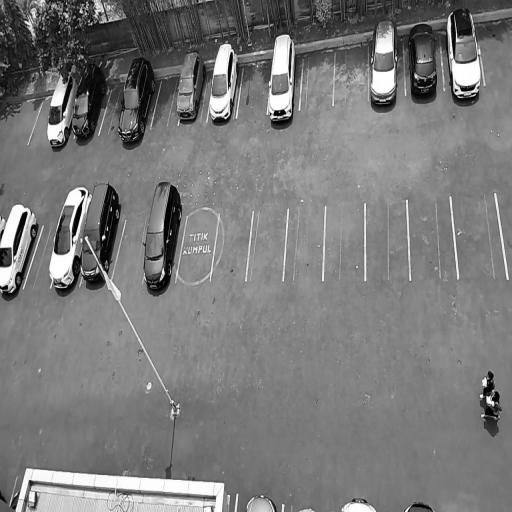Car: (44, 185, 93, 296), (142, 177, 187, 295), (80, 180, 124, 290), (445, 3, 487, 108), (0, 197, 41, 301), (115, 56, 158, 145), (70, 59, 110, 143), (266, 31, 299, 126), (174, 39, 209, 124), (370, 14, 400, 112), (208, 40, 242, 126), (45, 69, 79, 153), (408, 20, 439, 108), (339, 493, 380, 512), (245, 490, 277, 512), (402, 498, 437, 512), (0, 212, 7, 244)
Space Available: (451, 193, 507, 281), (408, 199, 458, 280), (366, 203, 410, 279), (323, 206, 365, 281), (176, 213, 219, 284), (246, 209, 287, 283), (284, 208, 325, 280), (211, 213, 252, 281), (477, 18, 512, 81), (112, 220, 148, 281), (300, 48, 335, 110), (334, 43, 369, 104), (23, 225, 55, 290), (236, 60, 271, 117), (150, 73, 181, 128), (99, 81, 125, 136), (496, 192, 512, 280), (28, 92, 53, 143)
